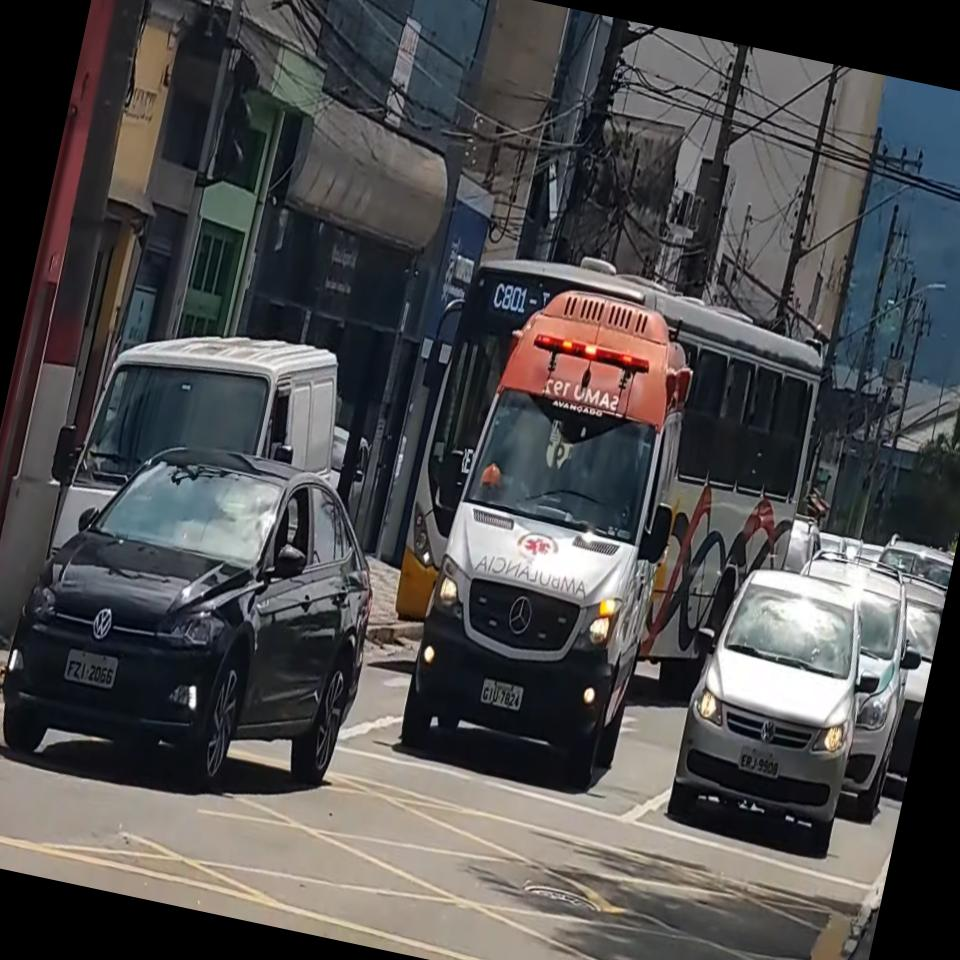bombeiro: (397, 274, 716, 794)
